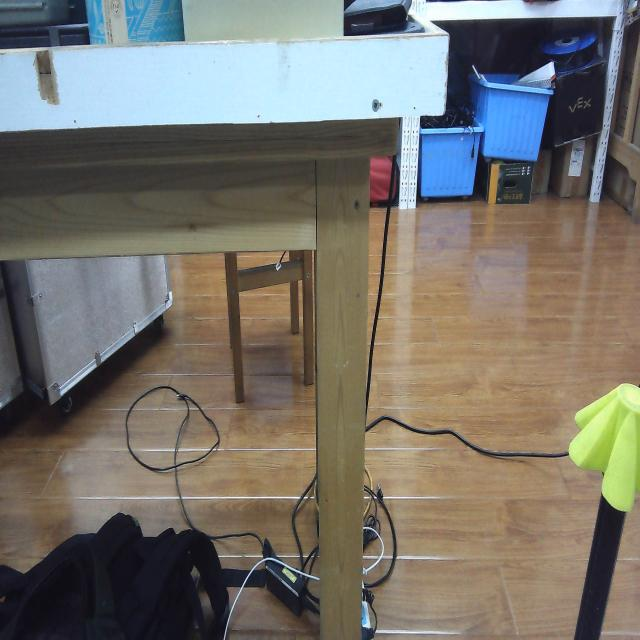Yellow-Stake-Head: (568, 383, 640, 512)
